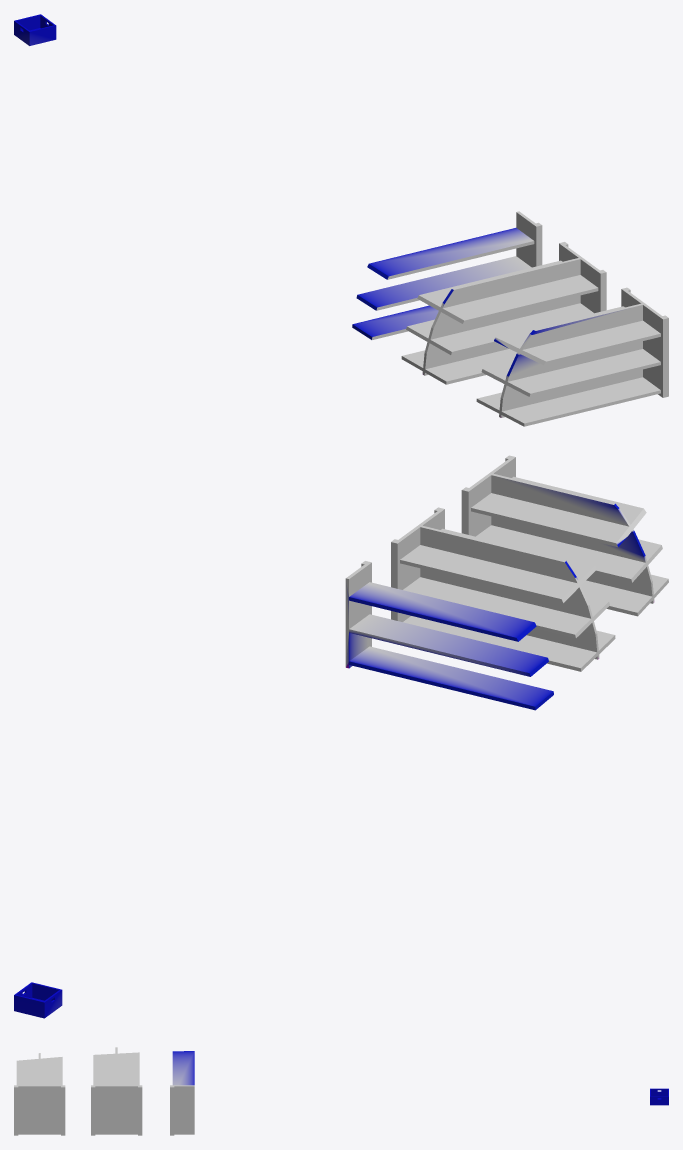
Rendered from StorageShelfs.fbx.
3 renders of one model, top to bottom at view 1: azimuth 30°, elevation 25°; view 2: azimuth 150°, elevation 25°; view 3: azimuth 270°, elevation 25°, orthographic. The views are drawn at different scales.
Parts seen in each view (by area): view 1: Shelfs, Basked; view 2: Shelfs, Basked; view 3: Shelfs, Basked.
Part boxes in pixels (left/top/right/bottom): Shelfs: left=352, top=211, right=668, bottom=426; Basked: left=14, top=14, right=56, bottom=45; Shelfs: left=345, top=455, right=668, bottom=710; Basked: left=14, top=982, right=62, bottom=1018; Shelfs: left=14, top=1047, right=194, bottom=1135; Basked: left=650, top=1088, right=668, bottom=1105.
Size of the model in its own units: 566 by 250 by 3066.
